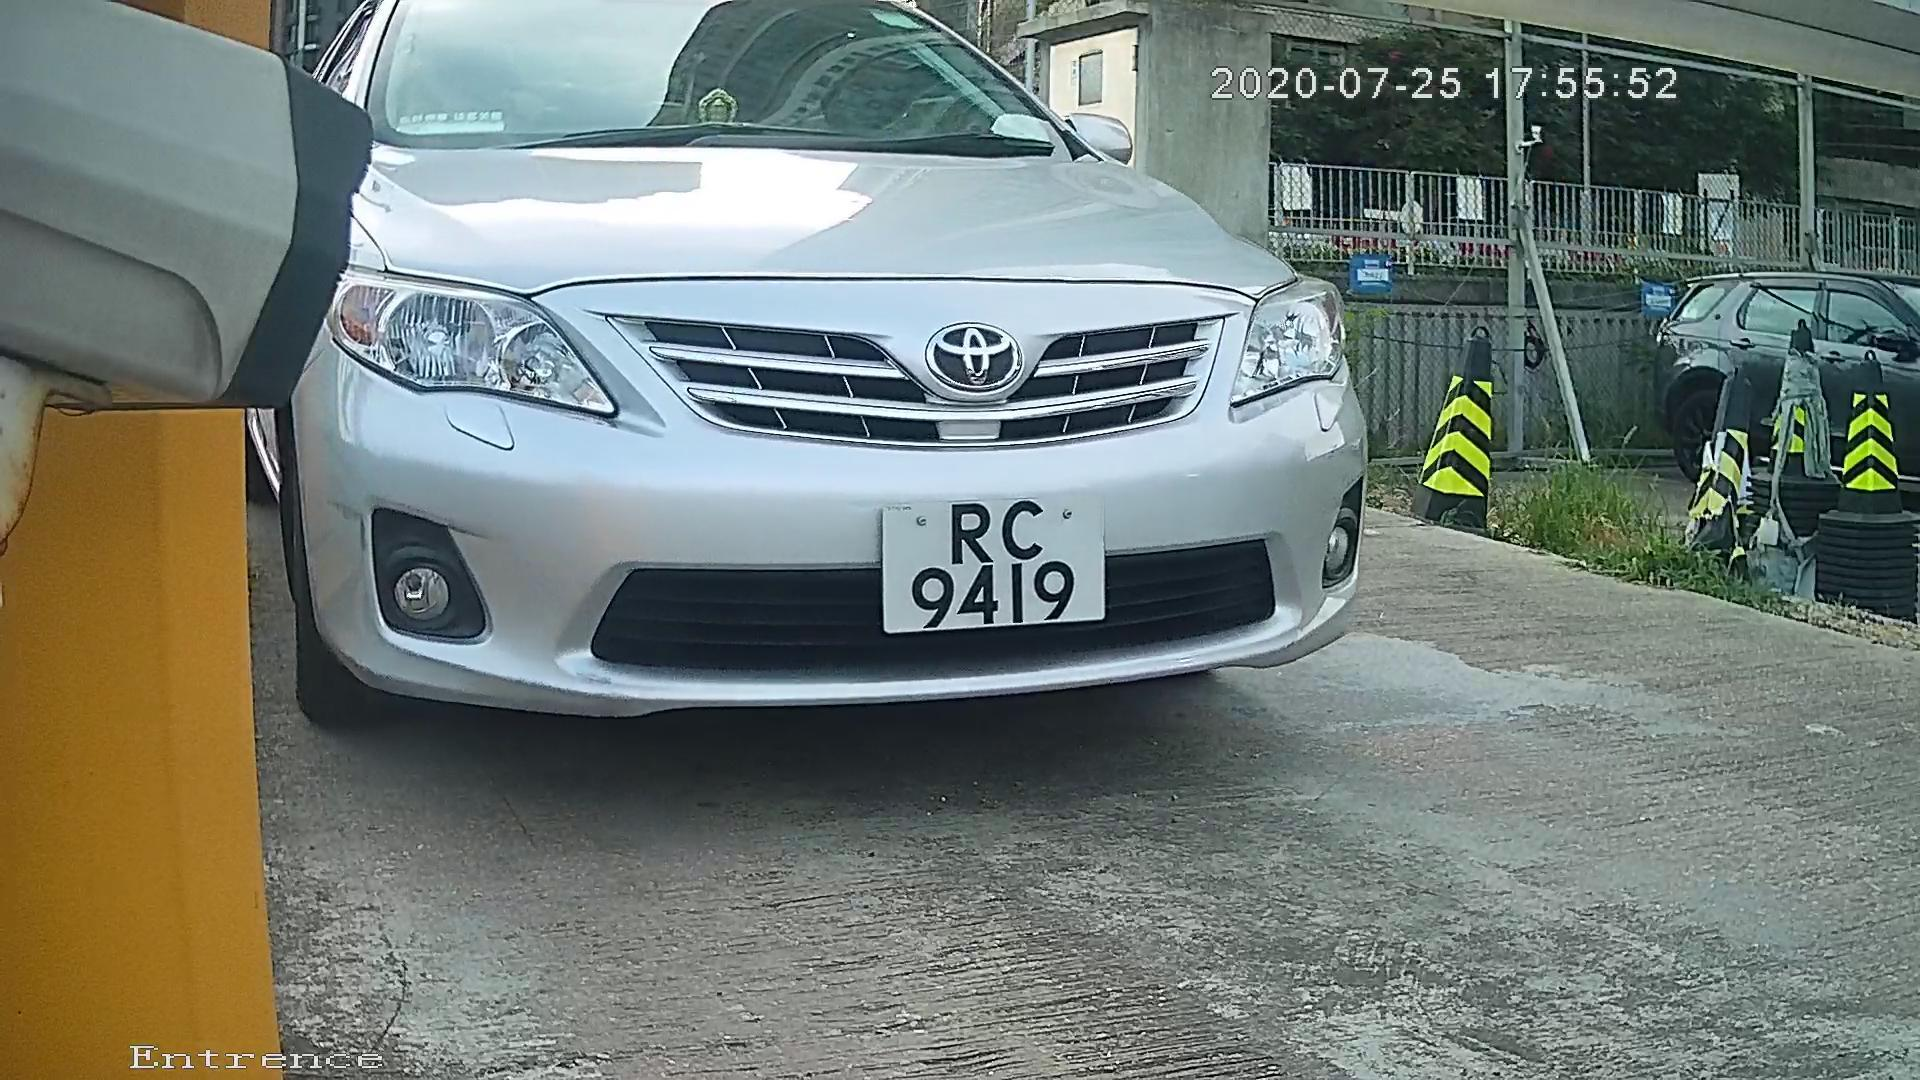privatecar: (241, 1, 1509, 786)
